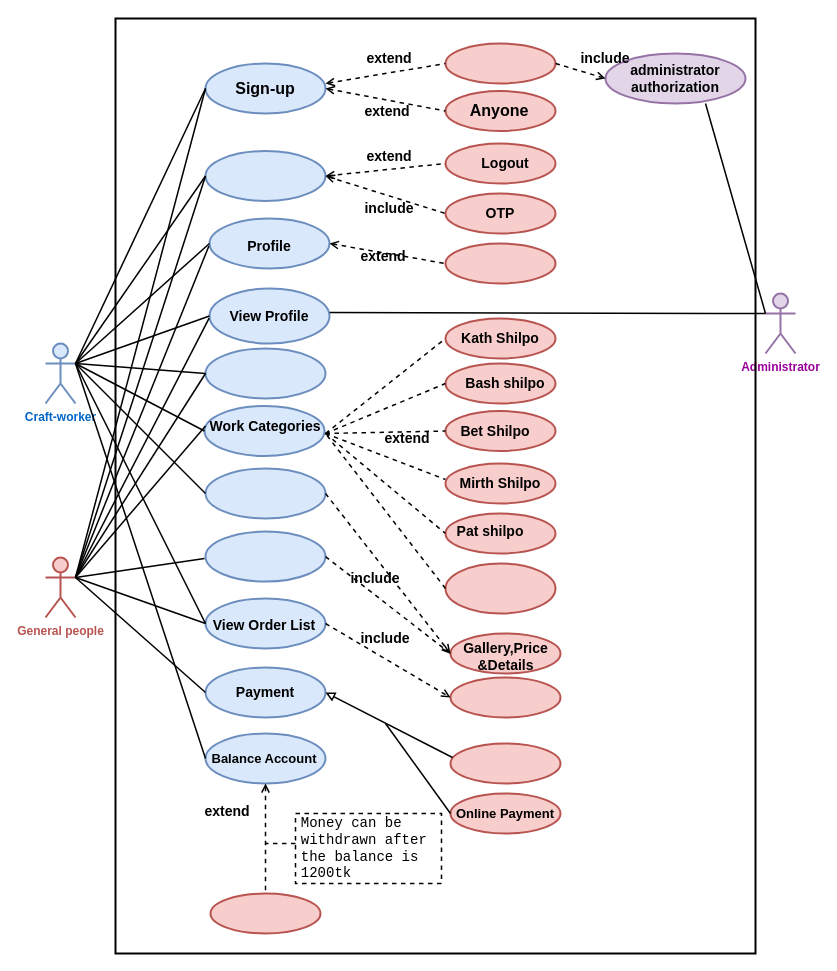
Image size: 837x971. Some labels were removed from this diagram. The centre of each missing label's shape, as x and y in pixels:
"Cash" goes at pixel 505 763.
"Craft-workers" goes at pixel 500 63.
"Nokshi Khatha & Butics" goes at pixel 500 588.
"Ordering Product" goes at pixel 265 556.
"Posting Articles" goes at pixel 265 373.
"Posting Product" goes at pixel 265 493.
"Profile Setting" goes at pixel 500 263.
"Sign-in" goes at pixel 265 176.
"Update Order" goes at pixel 505 697.
"Withdraw" goes at pixel 265 913.
